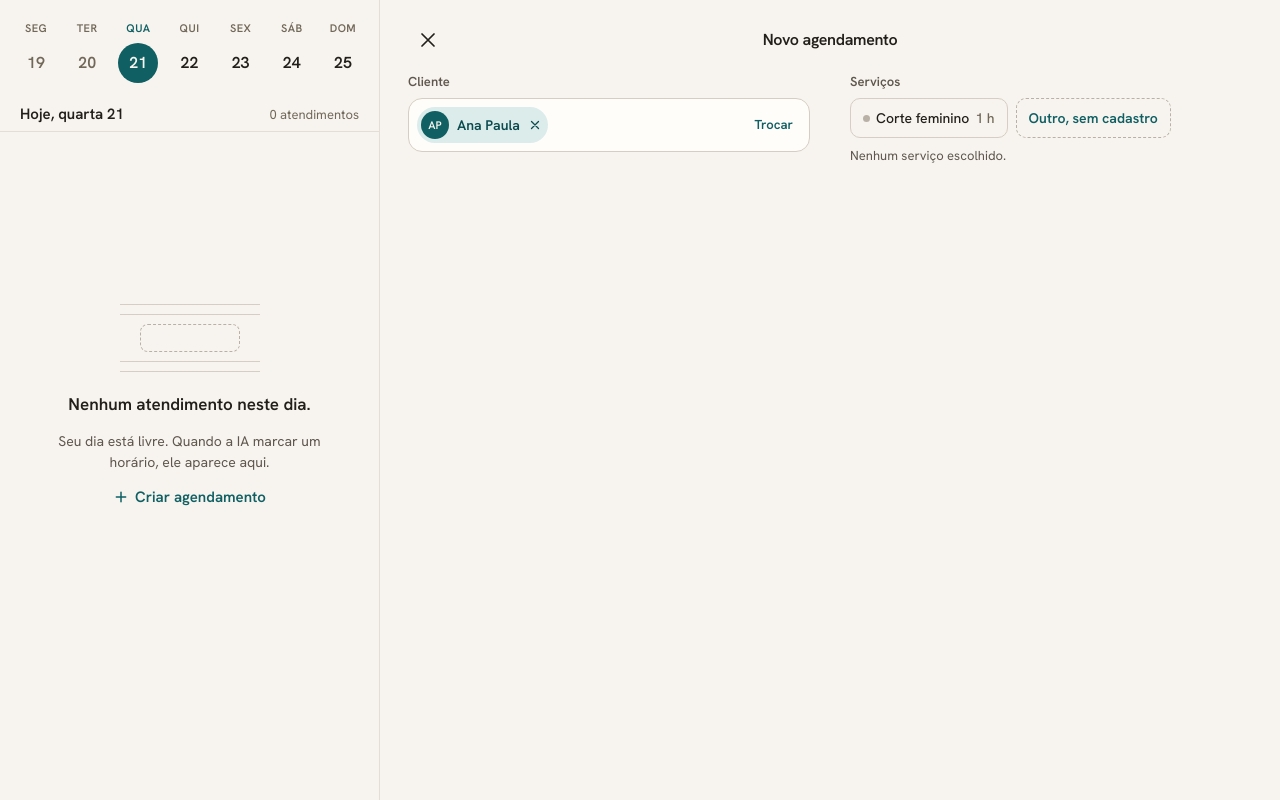
Test case: criação: o envelope real chega às telas já aceitas › a recusa da criação libera a reserva e abre o conflito
Click the checkbox labelled "Corte feminino 1 h" at coordinates (929, 118), box [850, 98, 1008, 138]
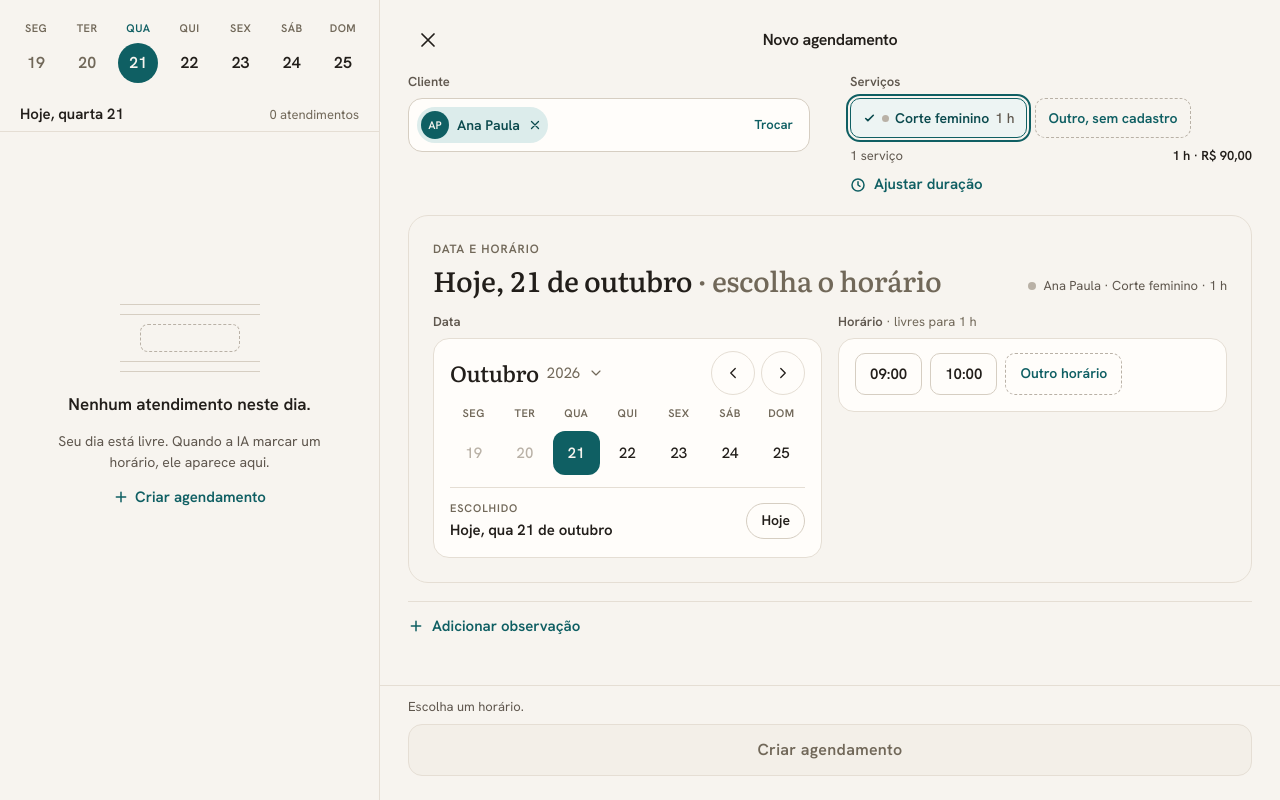
expect the radio button labelled "09:00" is shown: met
Click the radio button labelled "09:00" at coordinates (889, 374), box [855, 353, 922, 395]
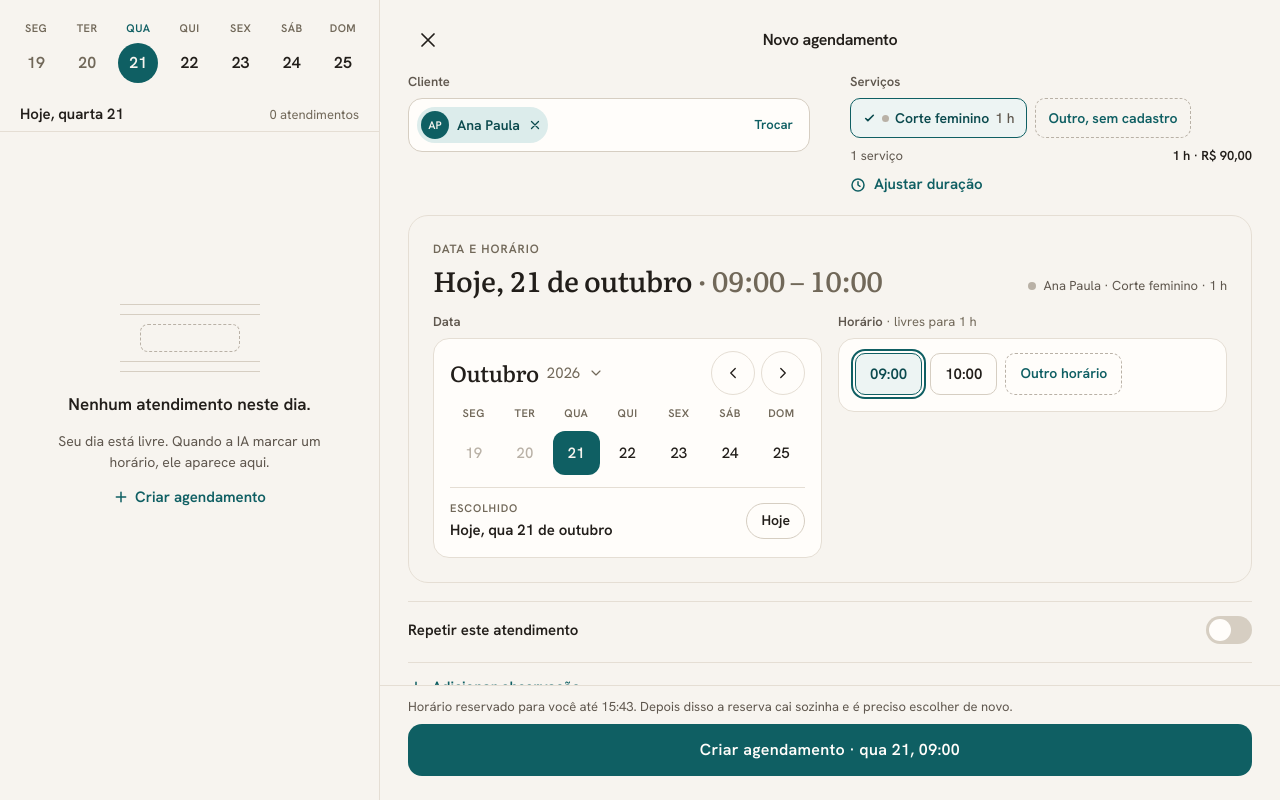
Click the button "Criar agendamento · qua 21, 09:00" at coordinates (830, 750), box [408, 724, 1252, 776]
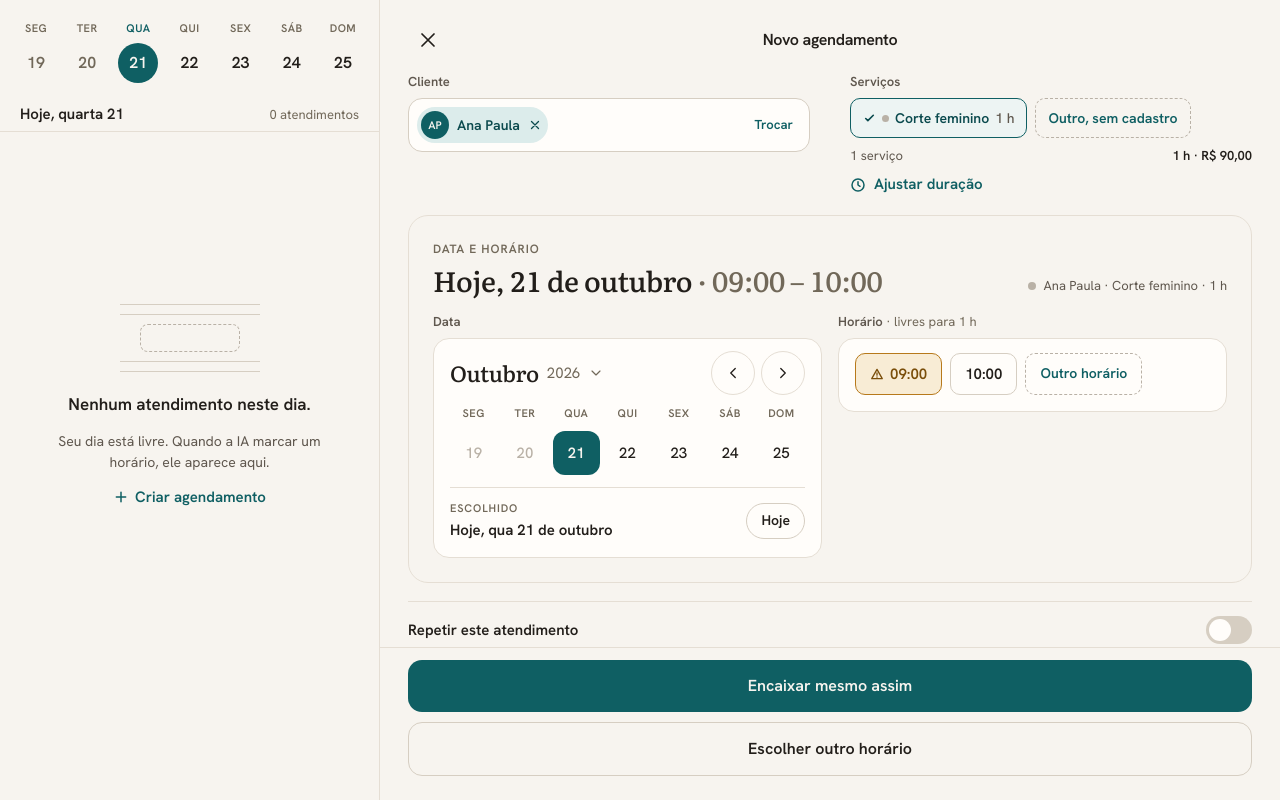
expect the button "Encaixar mesmo assim" is enabled: met, box [408, 660, 1252, 712]
